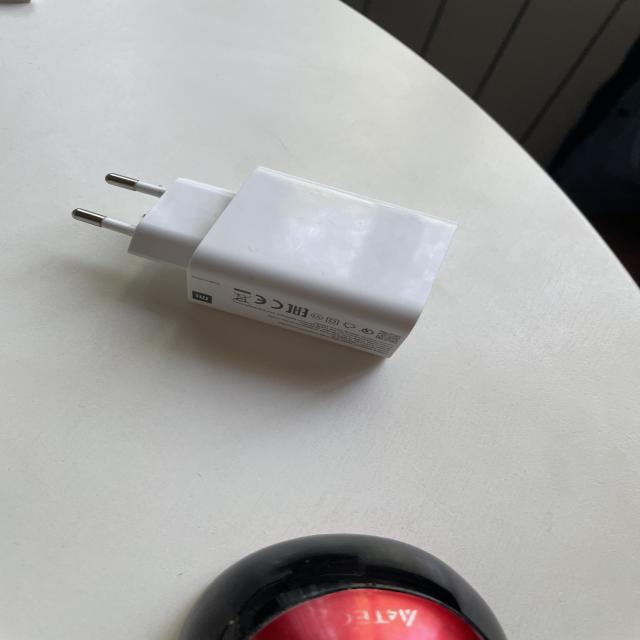Charger: (47, 141, 462, 383)
